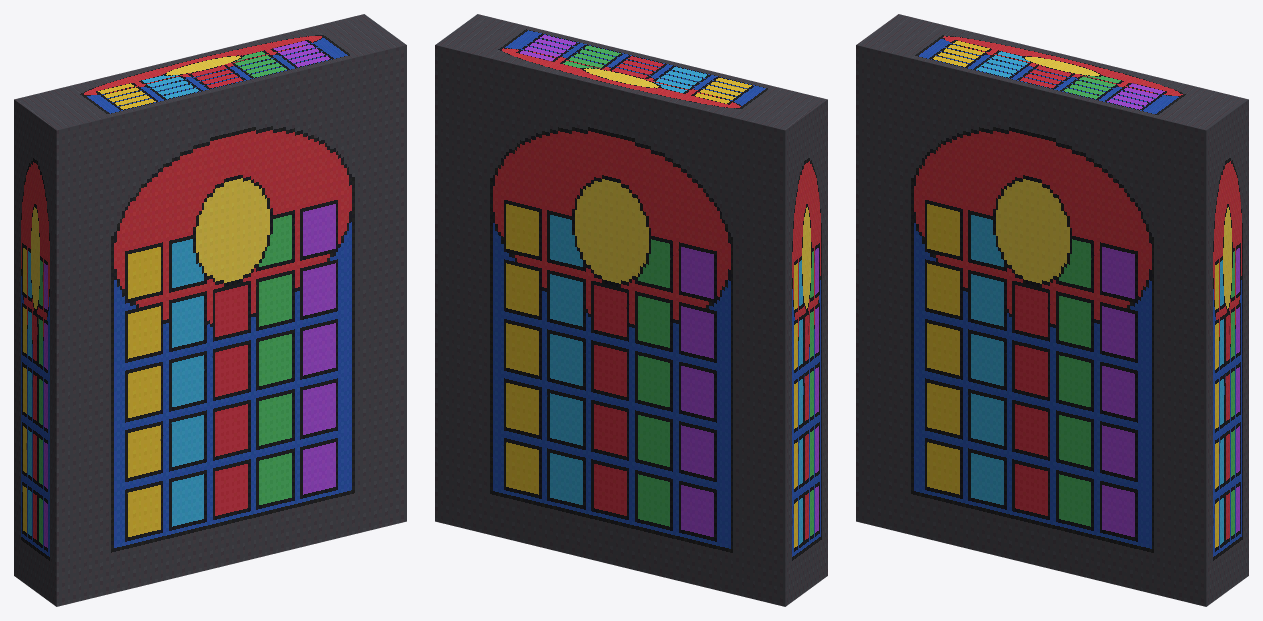
File: parede_de_vitral.glb
3 renders of one model, left to right at view 1: azimuth 30°, elevation 25°; view 2: azimuth 150°, elevation 25°; view 3: azimuth 330°, elevation 25°, orthographic.
Parts seen in each view (by area): view 1: parede_de_vitral; view 2: parede_de_vitral; view 3: parede_de_vitral.
Part boxes in pixels (left/top/right/bottom): parede_de_vitral: left=14, top=14, right=406, bottom=606; parede_de_vitral: left=435, top=14, right=827, bottom=606; parede_de_vitral: left=856, top=14, right=1248, bottom=606.
Bounding box in the file's own units: 2 × 2.6 × 0.42.
Materials: 1 (1 with a texture image).
